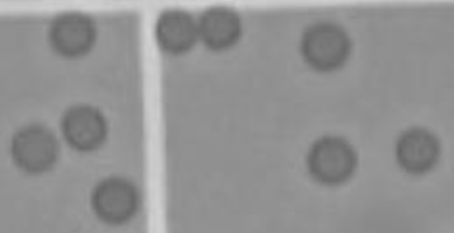cell: (296, 15, 355, 80), (301, 129, 360, 190), (85, 171, 143, 229), (58, 98, 114, 158), (389, 120, 443, 180), (6, 119, 62, 176), (195, 1, 246, 62), (46, 5, 101, 61), (150, 2, 199, 56)
